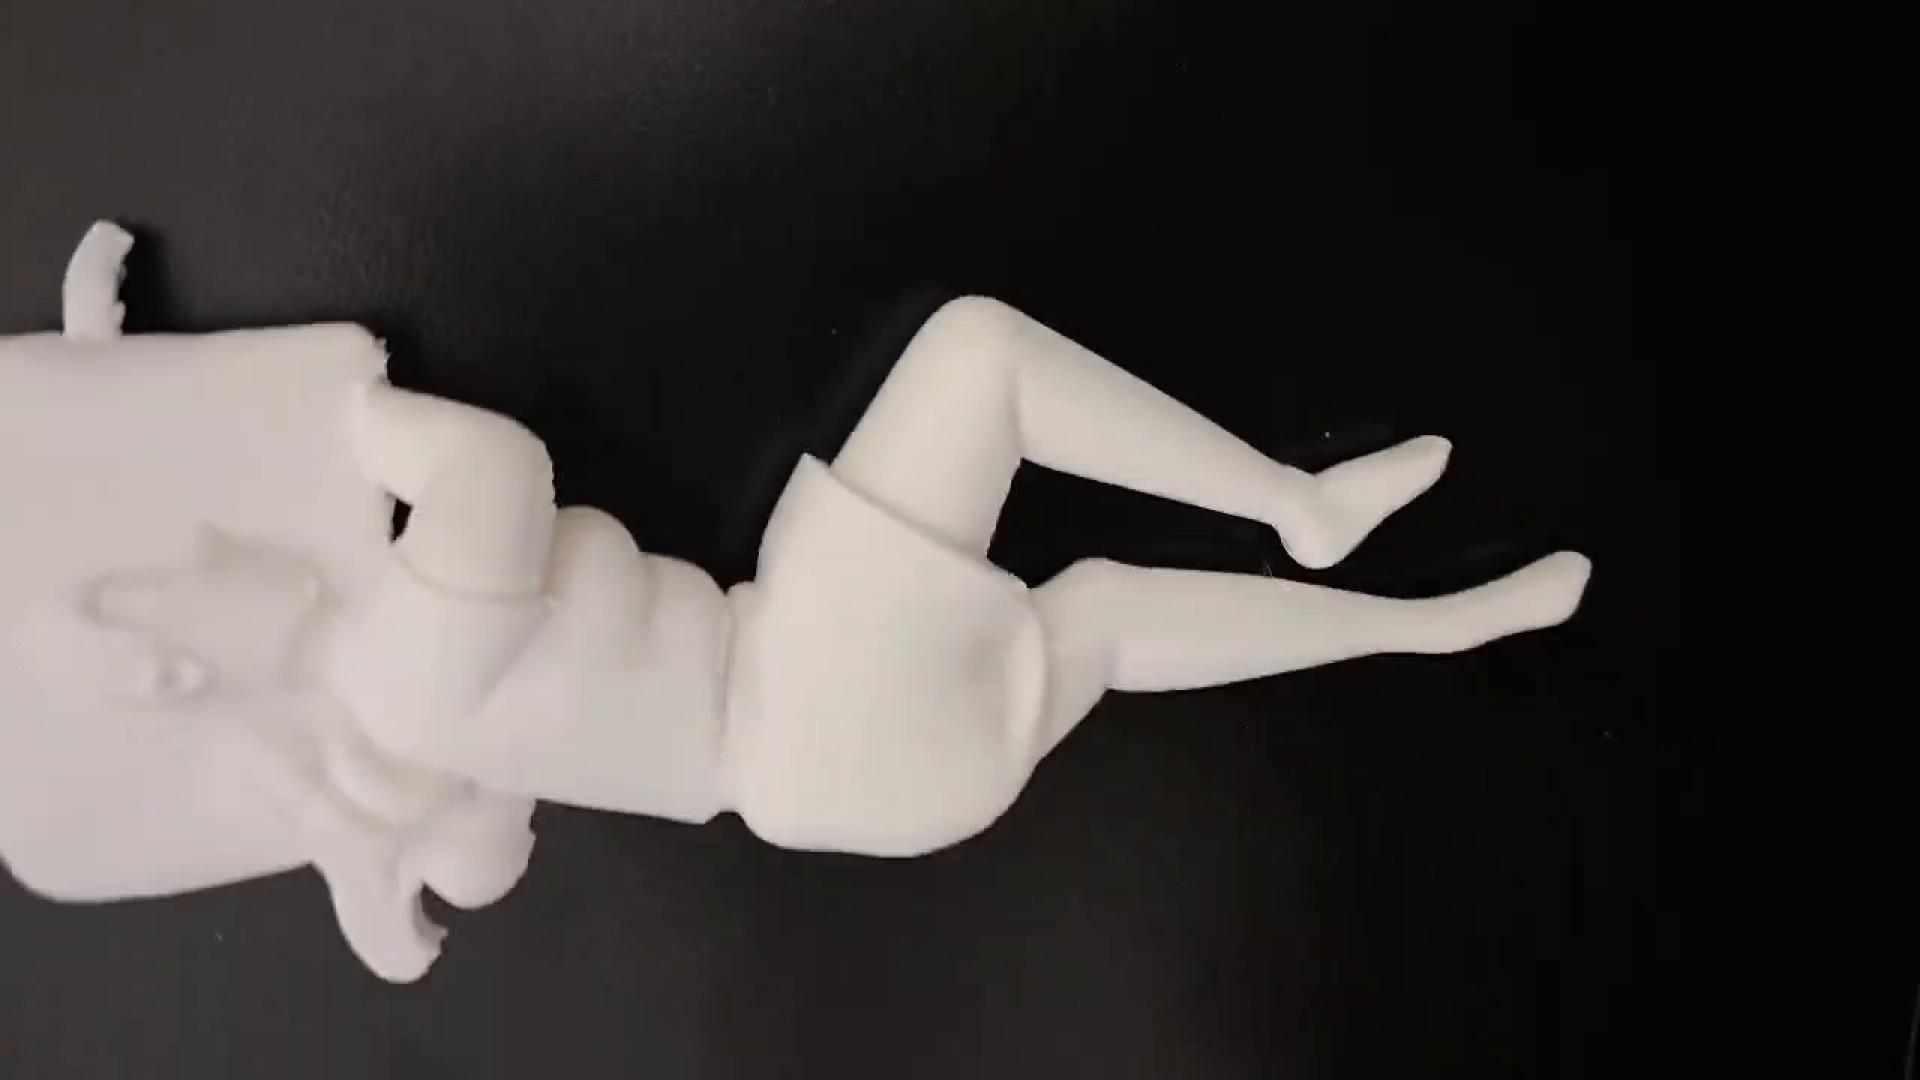Good-style: (0, 210, 1606, 1006)
